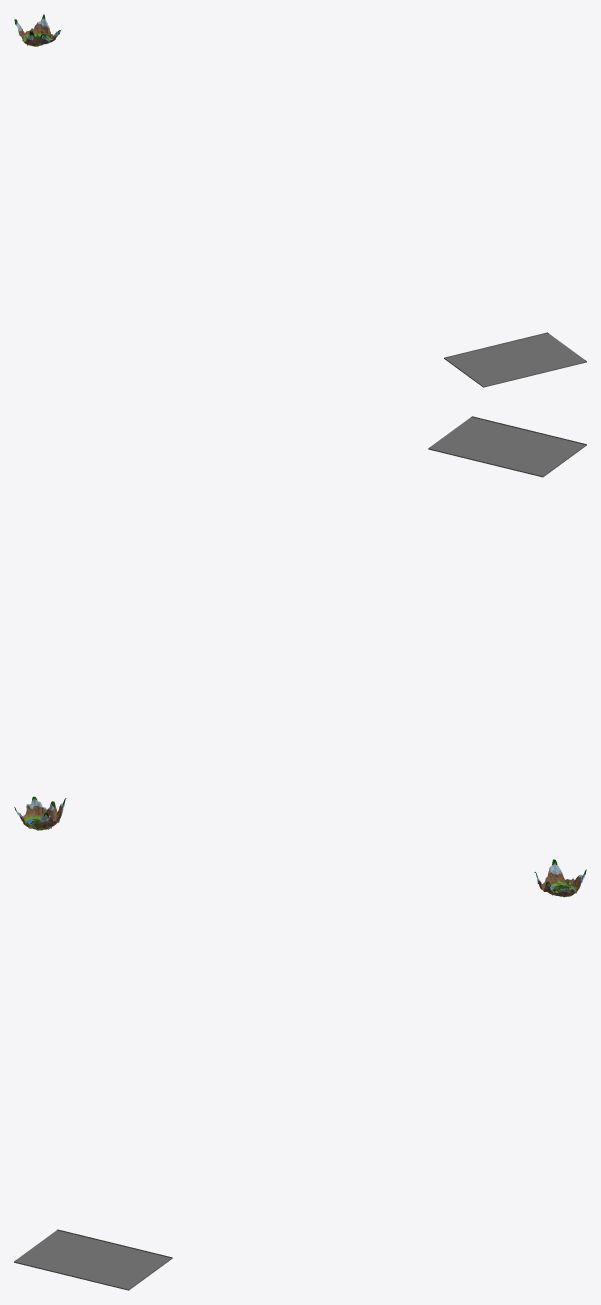
File: mountains.glb
3 views of the same model, one above another, from view 1: azimuth 30°, elevation 25°; view 2: azimuth 150°, elevation 25°; view 3: azimuth 330°, elevation 25° (orthographic). The views are drawn at different scales.
Visible parts, largest first — view 1: Cube.026, Plane; view 2: Cube.026, Plane; view 3: Cube.026, Plane.
Part boxes in pixels (bbox=[...]): Cube.026: bbox=[444, 332, 586, 387]; Plane: bbox=[14, 14, 60, 46]; Cube.026: bbox=[428, 416, 586, 477]; Plane: bbox=[14, 796, 66, 830]; Cube.026: bbox=[14, 1229, 172, 1290]; Plane: bbox=[534, 859, 586, 897].
Size of the model in its own units: 43.31 by 8.57 by 346.
Materials: 4 (2 with a texture image).
